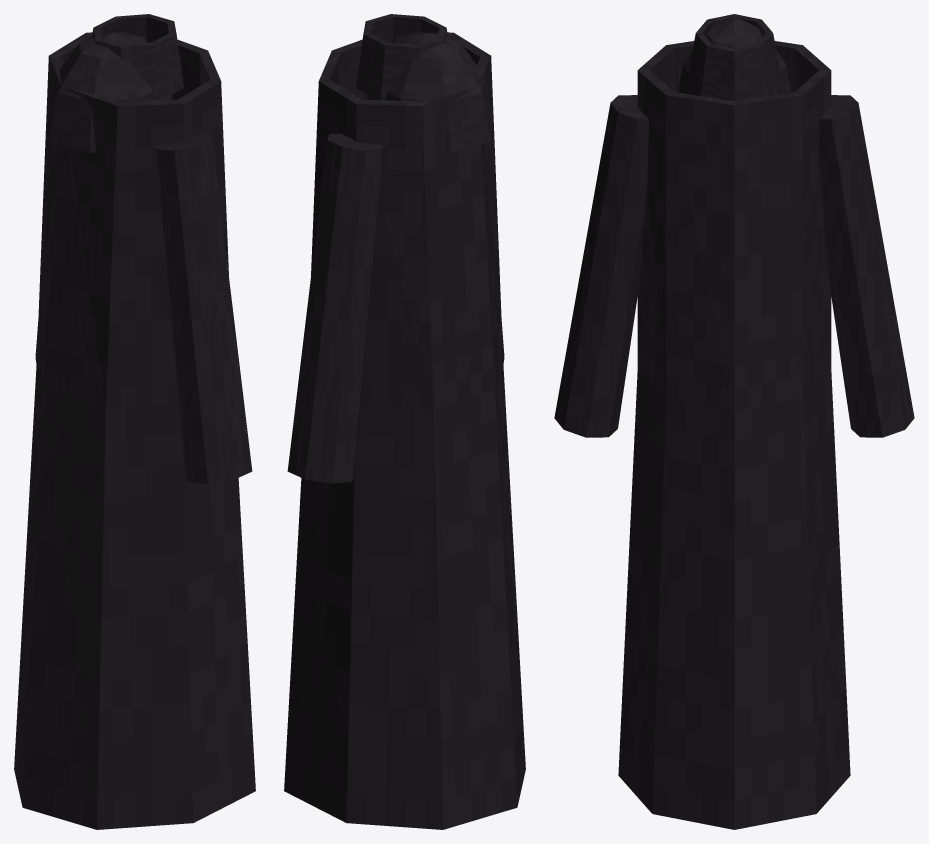
File: tunica_culto.glb
3 views of the same model, side by side, from view 1: azimuth 30°, elevation 25°; view 2: azimuth 150°, elevation 25°; view 3: azimuth 270°, elevation 25° (orthographic).
Visible parts, largest first — view 1: cuerpo, pecho, manga_der, capucha, cuello; view 2: cuerpo, pecho, manga_izq, capucha, cuello; view 3: cuerpo, pecho, manga_izq, manga_der, cuello, capucha.
Part boxes in pixels (left/top/right/bottom): cuerpo: left=14, top=359, right=255, bottom=829; pecho: left=37, top=32, right=228, bottom=408; manga_der: left=155, top=133, right=252, bottom=483; capucha: left=46, top=32, right=173, bottom=152; cuello: left=92, top=14, right=183, bottom=100; cuerpo: left=284, top=359, right=525, bottom=829; pecho: left=311, top=32, right=502, bottom=408; manga_izq: left=287, top=133, right=383, bottom=483; capucha: left=366, top=32, right=493, bottom=152; cuello: left=356, top=14, right=447, bottom=100; cuerpo: left=618, top=367, right=850, bottom=829; pecho: left=637, top=41, right=831, bottom=410; manga_izq: left=819, top=95, right=914, bottom=437; manga_der: left=554, top=95, right=648, bottom=437; cuello: left=686, top=14, right=782, bottom=100; capucha: left=678, top=17, right=790, bottom=94.
Bounding box in the file's own units: 0.5 × 1.6 × 0.7.
1 material, 1 textured.
